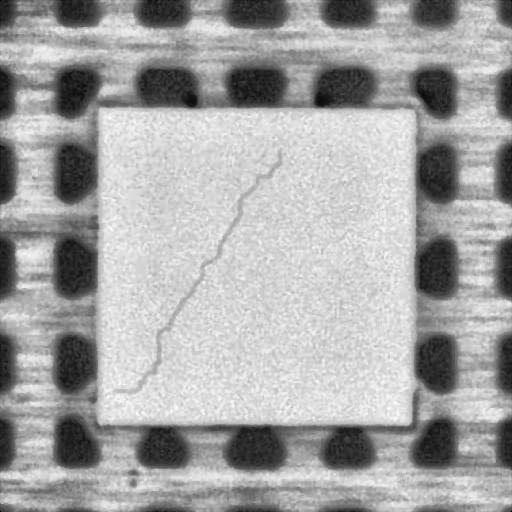DIE_CRACK: (113, 147, 283, 396)
